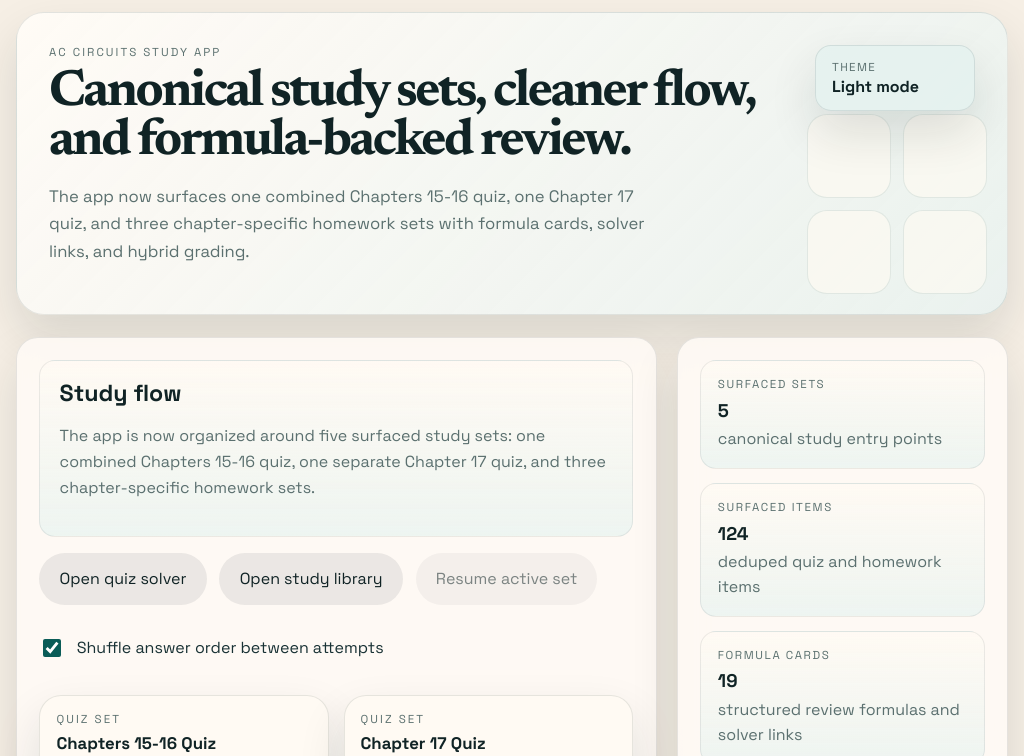
Test case: App › opens the study library and surfaces the cleaned quiz buckets
Click the button "Open study library".
click(311, 579)  # box [220,553,403,605]
(page scrolled)
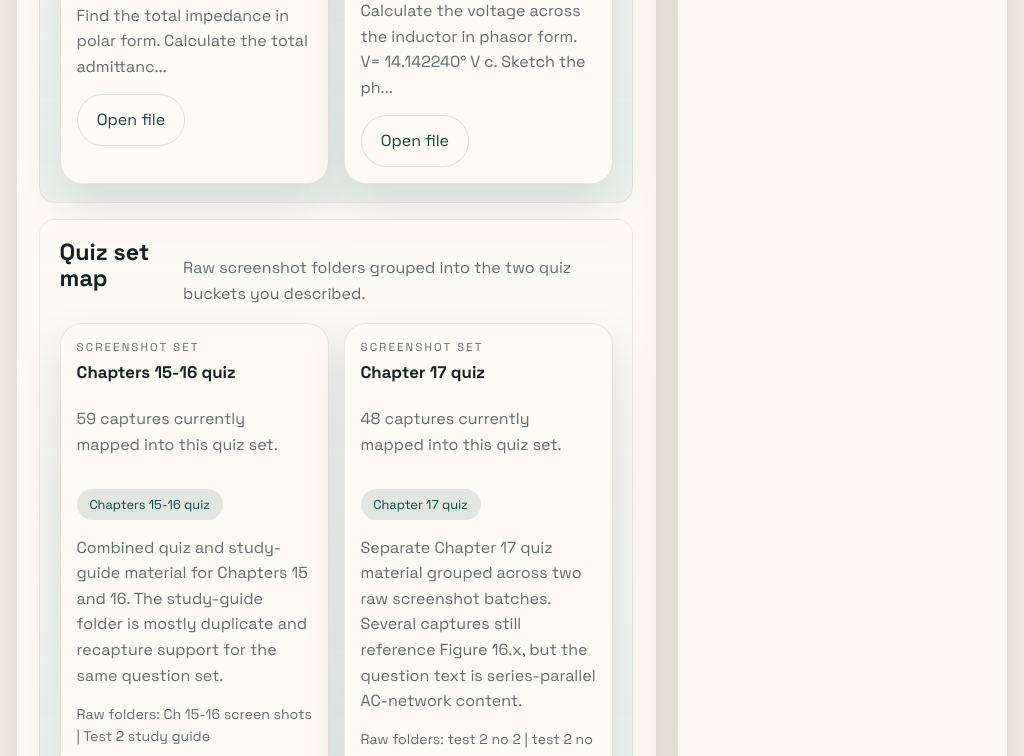
Result: the heading "Quiz set map" is shown at [60,237,149,293]
Result: the heading "Chapter 17 quiz" is shown at [360,361,485,383]
